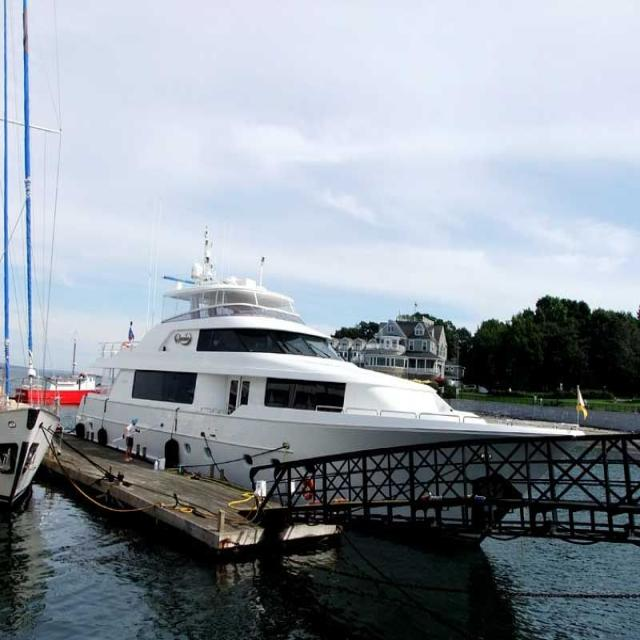houseboat: (81, 264, 592, 519)
